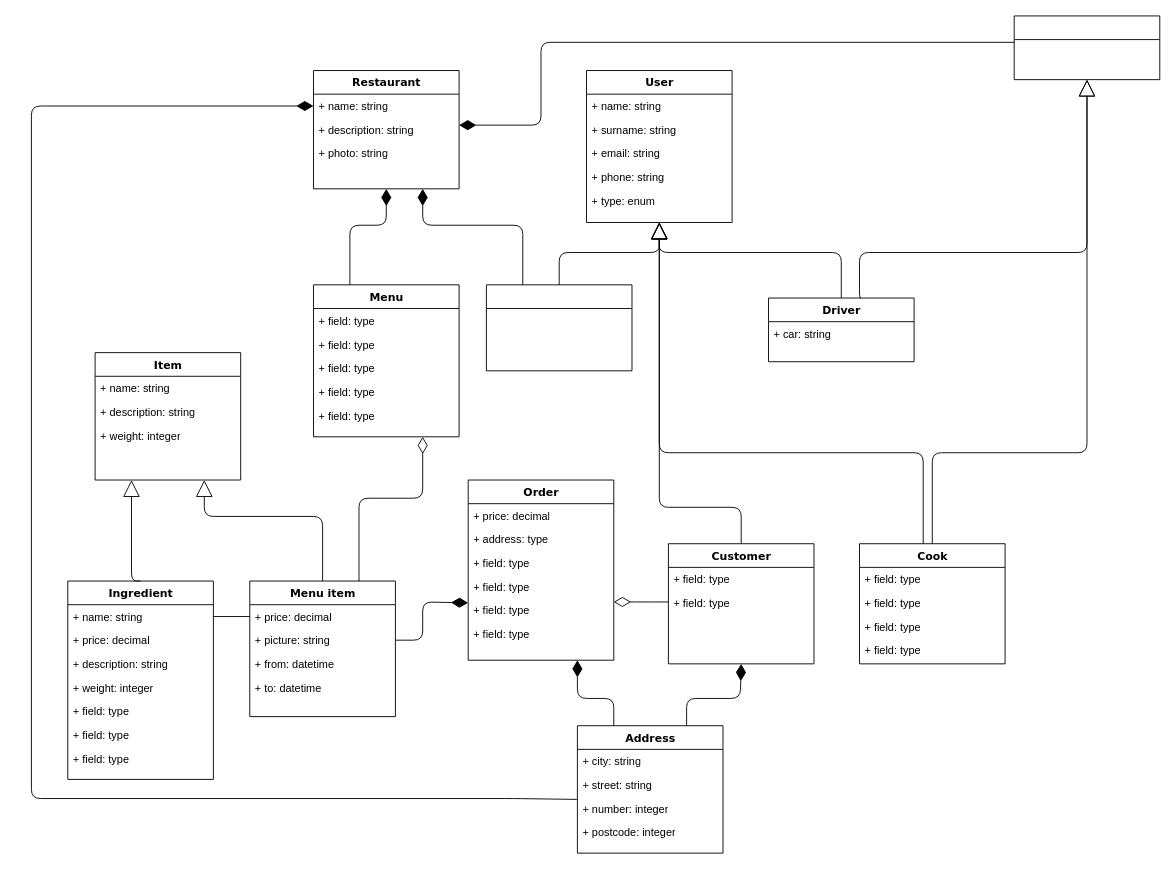
Image size: 1176x869. Some labels were removed from this diagram. The centre of each missing label's shape, as x and y in pixels:
Employee: [1086,47]
Manager: [558,327]
